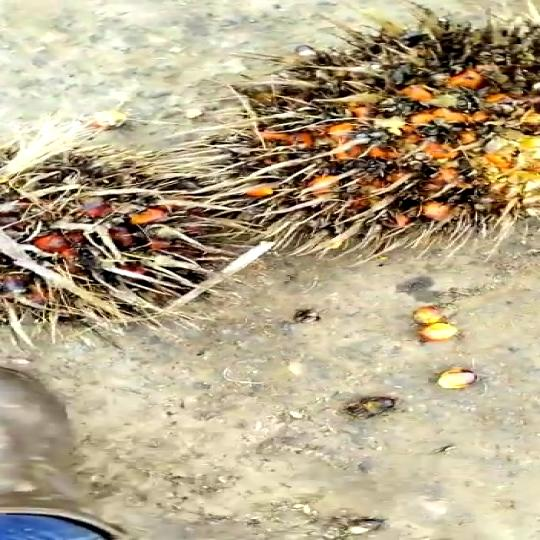terlalu masak: (190, 8, 540, 251), (0, 137, 252, 347)
